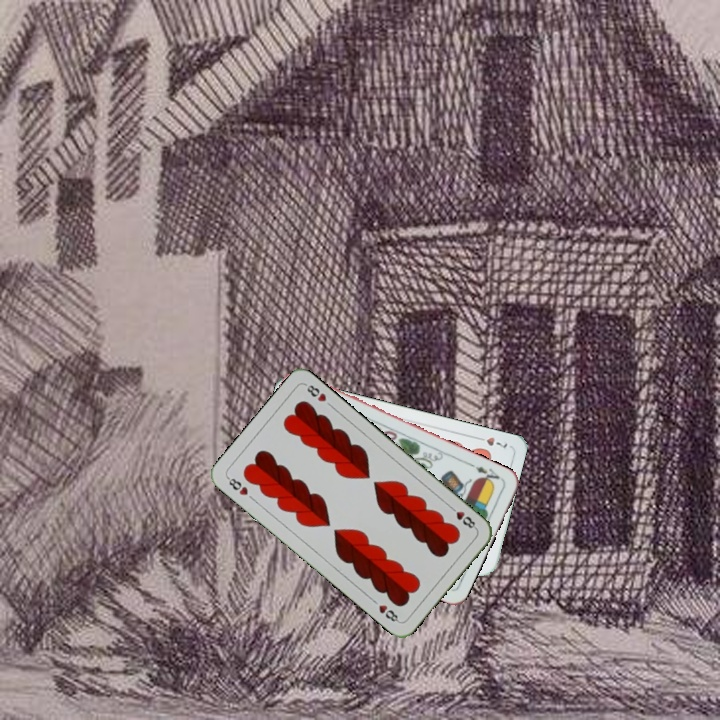EA: (466, 460, 505, 487)
H7: (471, 432, 510, 451)
H8: (445, 502, 479, 532), (223, 473, 251, 498)
